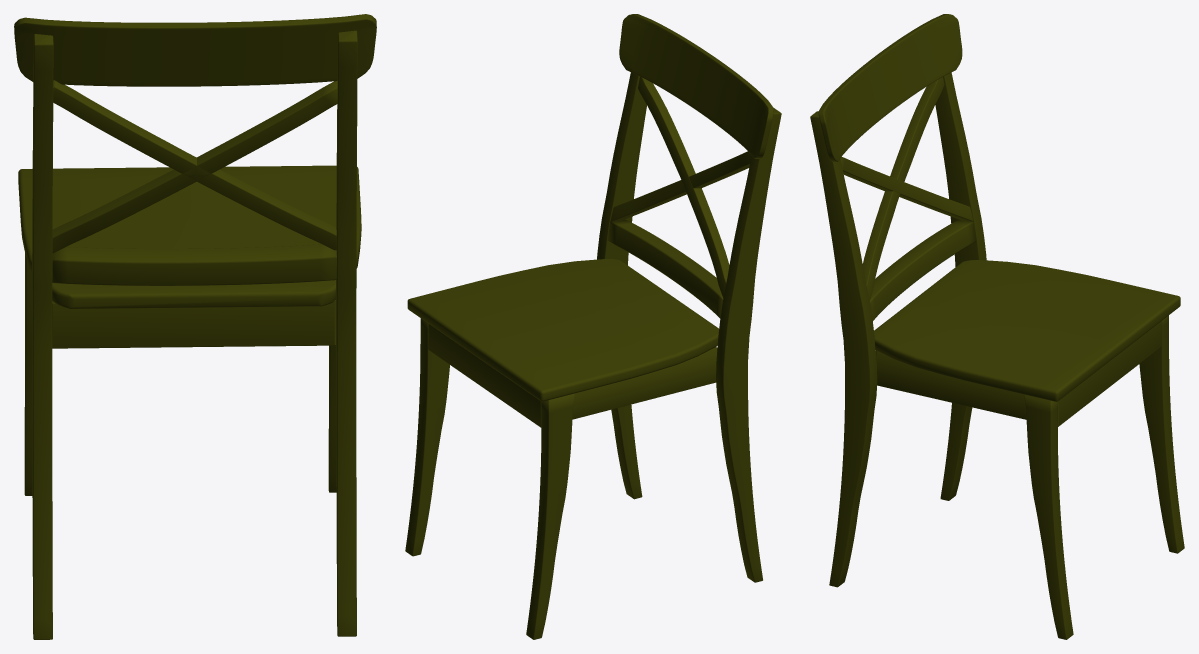
File: chair.fbx
The picture shows the model from 3 angles, left to right: view 1: azimuth 30°, elevation 25°; view 2: azimuth 150°, elevation 25°; view 3: azimuth 270°, elevation 25°; orthographic projection. The views are drawn at different scales.
Visible parts, largest first — view 1: Chair.001_Cube.004; view 2: Chair.001_Cube.004; view 3: Chair.001_Cube.004.
Boxes of the visible parts, x1,y1,x2,y2 form: Chair.001_Cube.004: (14,14,376,639); Chair.001_Cube.004: (405,14,781,639); Chair.001_Cube.004: (810,14,1184,639).
Size of the model in its own units: 467 by 677 by 482.
